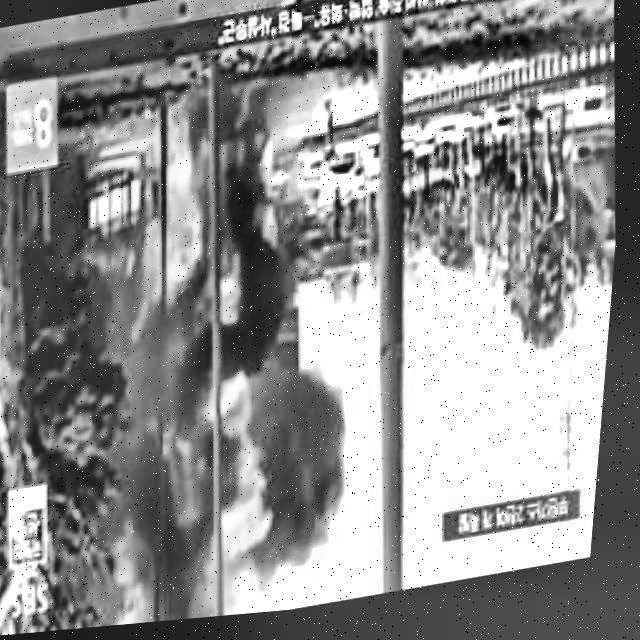Fire: (118, 94, 261, 361), (158, 385, 292, 606)
